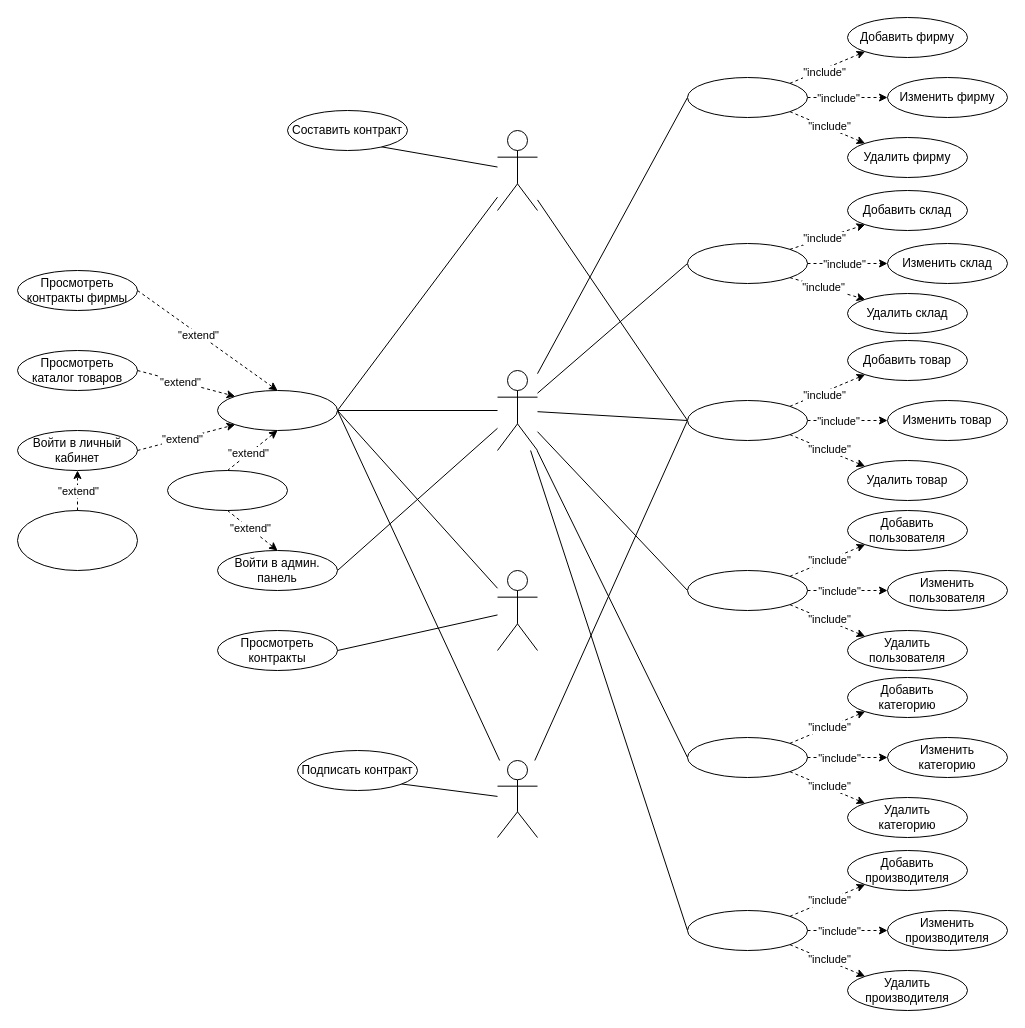
Image size: 1025x1028. Some labels were removed from this diagram. The shapes that lost their labels are listed below. From the top down, each one's centre as x and y in pixels, then its label:
At (747,97): "Управлять фирмой".
At (517,170): "Менеджер".
At (747,263): "Управлять складом".
At (277,410): "Войти в систему".
At (517,410): "Администратор".
At (747,420): "Управлять товаром".
At (227,490): "Выйти из системы".
At (77,540): "Изменить контактные данные".
At (517,610): "Аудитор".
At (747,590): "Управлять пользователем".
At (747,757): "Управлять категорией".
At (517,799): "Руководитель".
At (747,930): "Управлять производителем".
